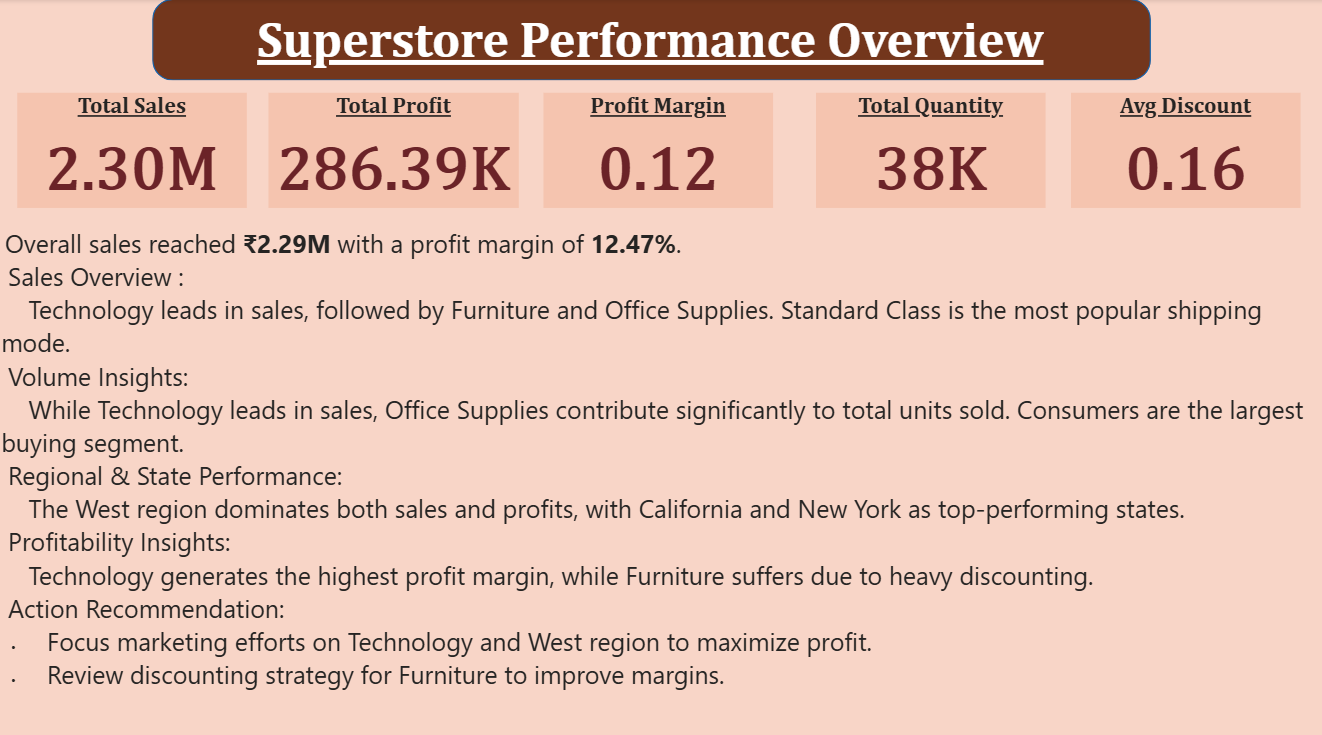

Layout of this report page (visuals, bound fields, positions):
{"tool":"powerbi","page":{"name":"Summary","canvas":[1280,720],"ordinal":1},"visuals":[{"type":"textbox","box":[0,215,1280,486.2],"z":0},{"type":"card","title":"Total Sales","fields":{"Values":["SampleSuperstore.Total_Sales"]},"box":[20,90,221.2,111.2],"z":1000},{"type":"card","title":"Avg Discount","fields":{"Values":["SampleSuperstore.Avg_Discount"]},"box":[1037.5,90,221.2,111.2],"z":2000},{"type":"card","title":"Total Profit","fields":{"Values":["SampleSuperstore.Total_Profit"]},"box":[262.5,90,241.2,111.2],"z":3000},{"type":"card","title":"Total Quantity","fields":{"Values":["SampleSuperstore.Total_Quantity"]},"box":[791.2,90,221.2,111.2],"z":4000},{"type":"card","title":"Profit Margin","fields":{"Values":["SampleSuperstore.Profit_Margin"]},"box":[528.8,90,221.2,111.2],"z":5000},{"type":"shape","box":[151.2,0,963.8,78.8],"z":6000},{"type":"textbox","box":[183.8,6.2,896.2,67.5],"z":7000}]}

Visuals, with their boxes in screenshot pixels (x1, y1, x2, y2), scaled from the page's 1280x720 canvas onto the 1322x735 screenshot:
textbox: 0:219:1321:716
"Total Sales" card: 21:92:249:205
"Avg Discount" card: 1072:92:1300:205
"Total Profit" card: 271:92:520:205
"Total Quantity" card: 817:92:1046:205
"Profit Margin" card: 546:92:775:205
shape: 156:0:1152:80
textbox: 190:6:1115:75
